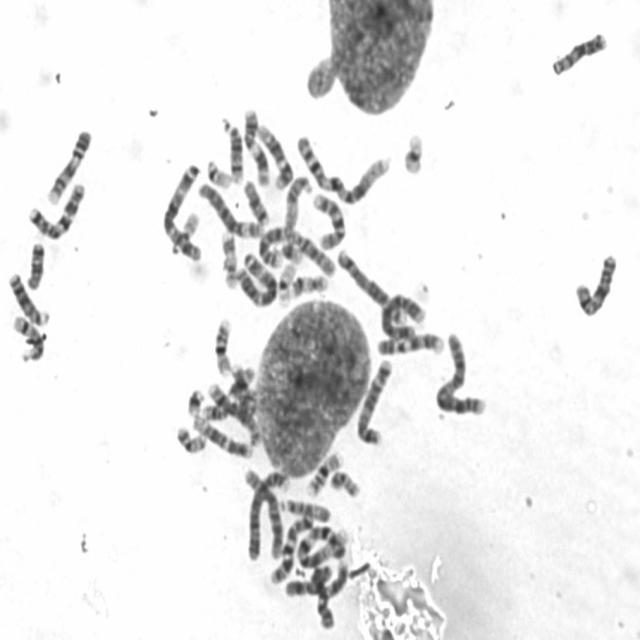A1: (292, 129, 392, 206), (293, 520, 351, 570)
A2: (432, 327, 489, 418), (254, 221, 338, 279)
A3: (160, 158, 204, 262), (232, 246, 280, 309)
B4: (243, 465, 292, 562), (377, 287, 429, 342)
B5: (334, 243, 409, 328), (352, 354, 395, 446)
C10: (316, 555, 351, 629), (310, 188, 348, 251)
C11: (200, 361, 255, 422), (240, 102, 272, 188)
C12: (189, 410, 255, 460), (254, 118, 294, 190)
C6: (195, 177, 266, 239), (246, 470, 282, 560)
C7: (25, 176, 88, 241), (266, 508, 314, 586)
C8: (205, 376, 264, 448), (231, 364, 258, 418)
C9: (44, 124, 94, 205), (373, 328, 447, 358)
D13: (549, 27, 609, 78), (6, 266, 52, 327)
D14: (9, 310, 46, 363), (218, 115, 246, 185)
D15: (280, 170, 314, 238), (276, 494, 333, 523)
E16: (302, 446, 345, 498), (211, 312, 235, 378)
E17: (218, 227, 239, 291), (286, 269, 330, 298)
E18: (240, 175, 270, 226), (23, 237, 47, 291)
F19: (399, 127, 426, 177), (274, 256, 298, 307)
F20: (173, 420, 208, 455), (327, 465, 362, 499)
G21: (183, 382, 207, 417), (277, 238, 304, 265)
G22: (168, 208, 201, 255), (204, 153, 233, 190)
X: (572, 248, 620, 320), (282, 559, 338, 599)
